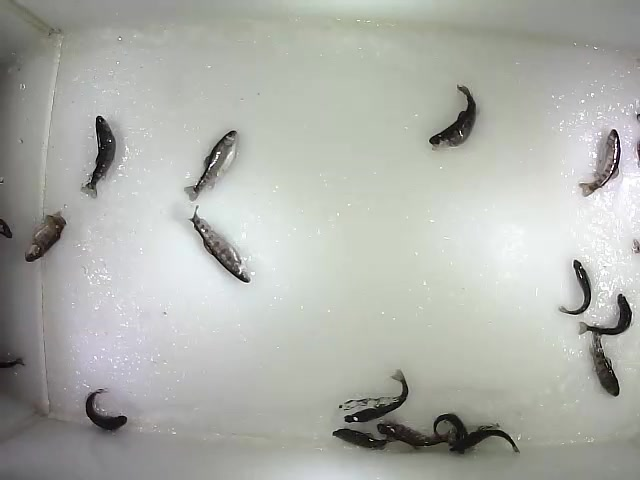fish: (186, 204, 252, 286), (183, 129, 241, 203), (344, 367, 409, 424), (427, 84, 479, 153), (79, 114, 118, 201), (578, 128, 623, 198), (588, 322, 622, 399), (577, 293, 634, 337), (376, 421, 453, 453), (24, 209, 69, 263), (331, 425, 400, 455), (558, 259, 592, 317), (85, 388, 129, 432), (448, 429, 522, 455), (432, 412, 469, 455)
